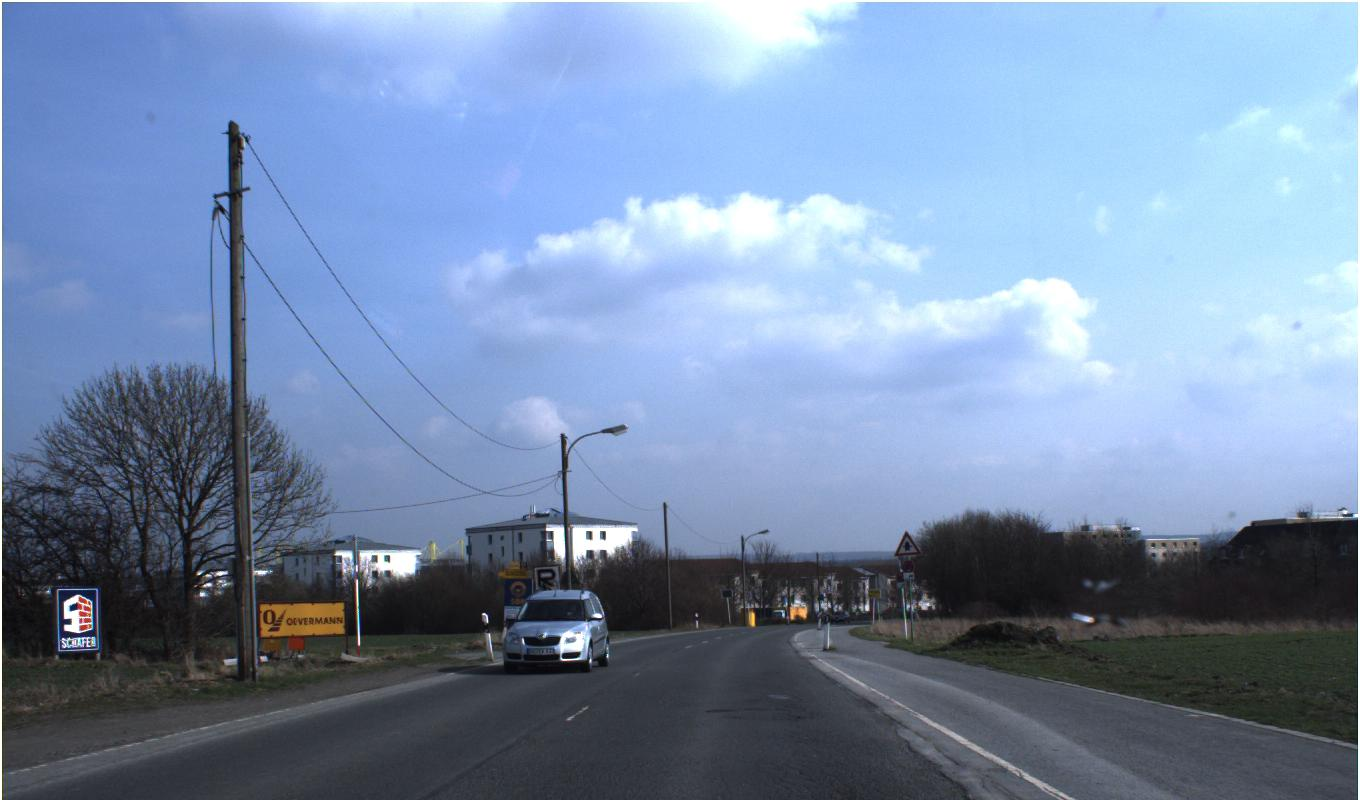danger: (893, 528, 923, 557)
